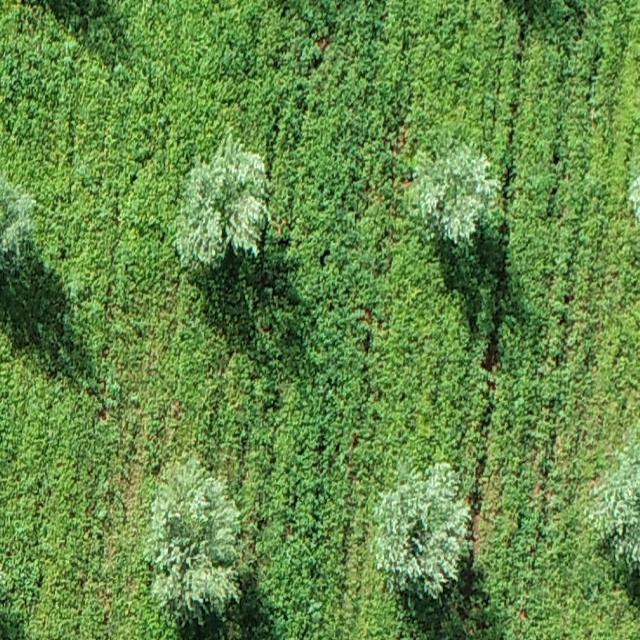trees: (145, 459, 239, 626), (375, 463, 470, 598), (175, 134, 269, 266), (412, 144, 500, 244), (590, 443, 640, 573), (0, 175, 33, 269)
